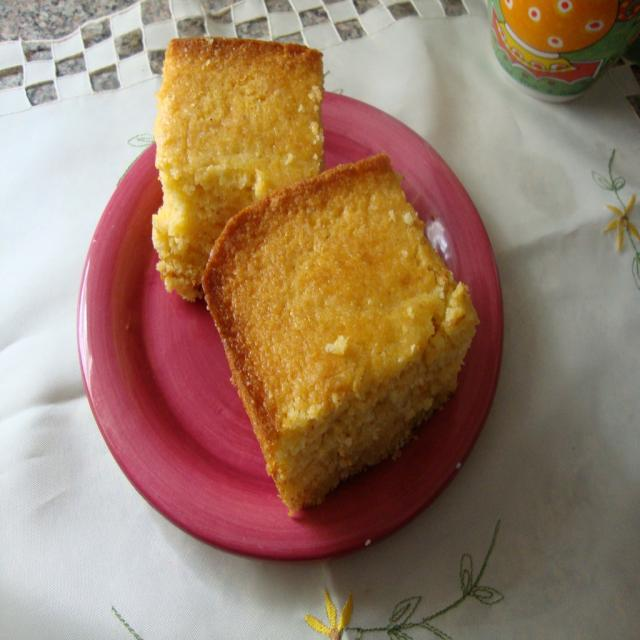Bread: (203, 151, 480, 512), (153, 39, 325, 305)
